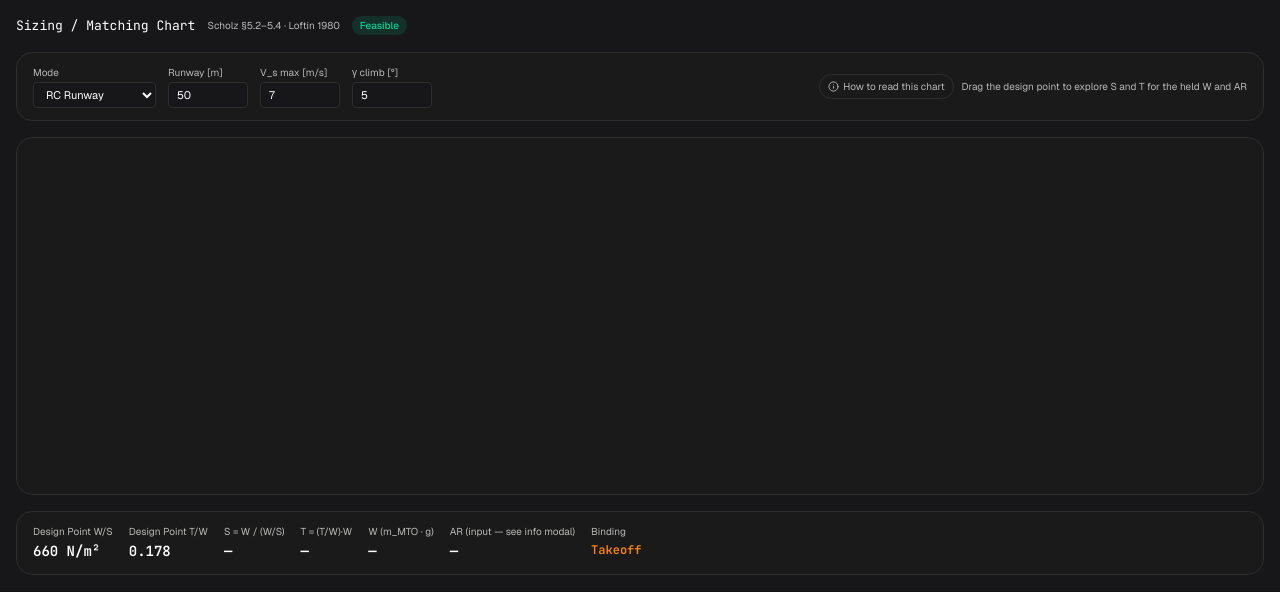
Test: MatchingChartTab — form controls › changing mode to uav_runway resets runway to 200
Select "UAV Runway" in the dropdown: (94, 95) [33,82,156,108]
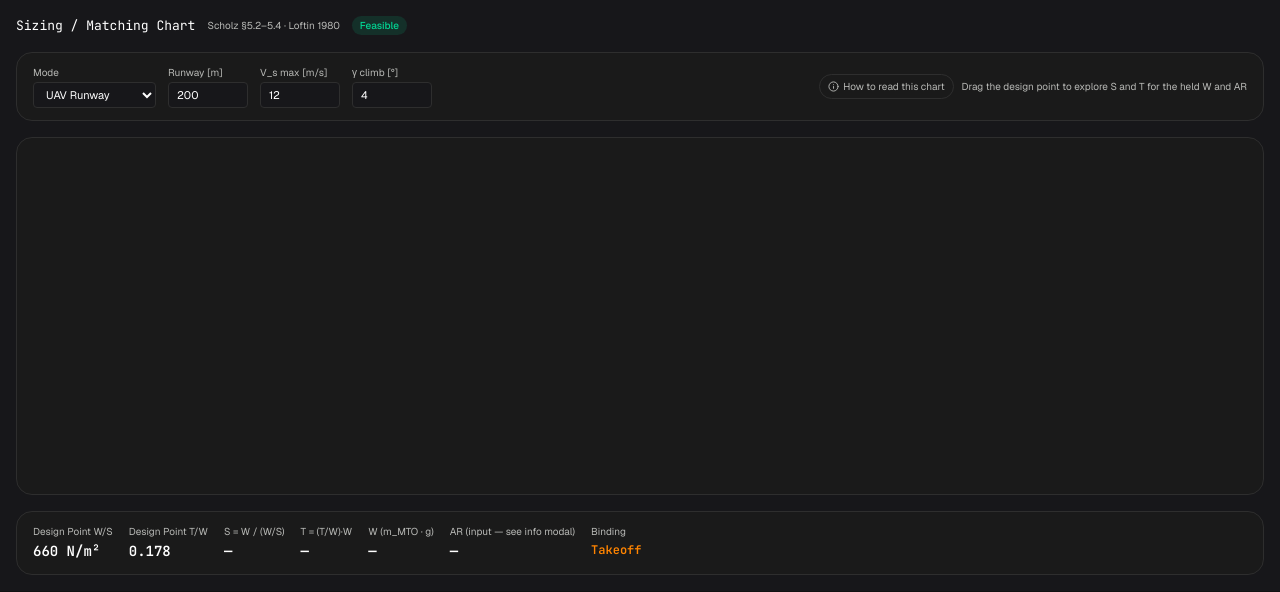
Now the number field showing "200" below "Runway [m]" is shown, box [168,82,248,108]
